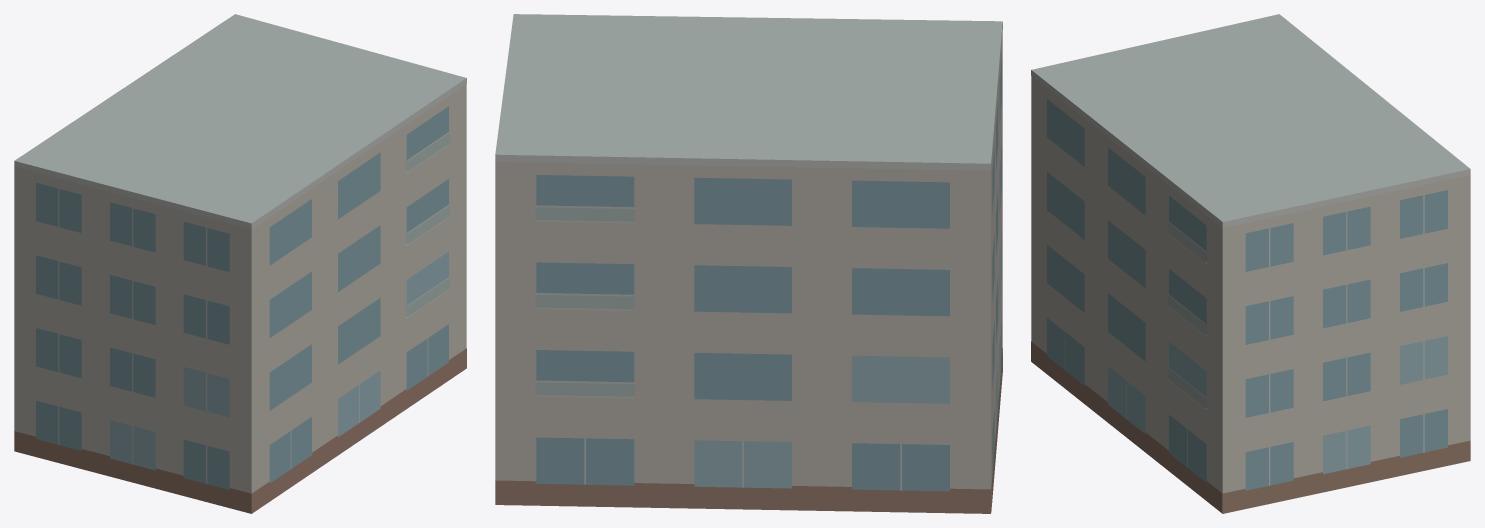
The model's file is survey-upis-32696149.glb.
3 views of the same model, side by side, from view 1: azimuth 30°, elevation 25°; view 2: azimuth 150°, elevation 25°; view 3: azimuth 270°, elevation 25° (orthographic). The views are drawn at different scales.
Visible parts, largest first — view 1: survey-upis-32696149.tmp; view 2: survey-upis-32696149.tmp; view 3: survey-upis-32696149.tmp.
Boxes of the visible parts, bbox=[...] form: survey-upis-32696149.tmp: bbox=[14, 14, 466, 513]; survey-upis-32696149.tmp: bbox=[495, 14, 1002, 513]; survey-upis-32696149.tmp: bbox=[1031, 14, 1470, 513].
Size of the model in its own units: 18.66 by 12.2 by 16.66.
